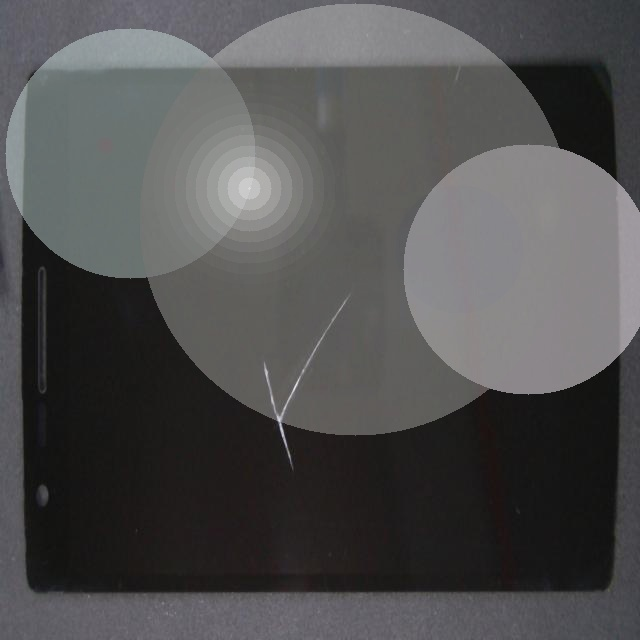scratch: (208, 138, 552, 415)
